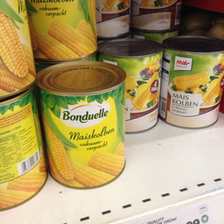corn: (35, 60, 126, 189), (157, 36, 224, 130), (99, 38, 163, 133), (25, 1, 100, 63)
